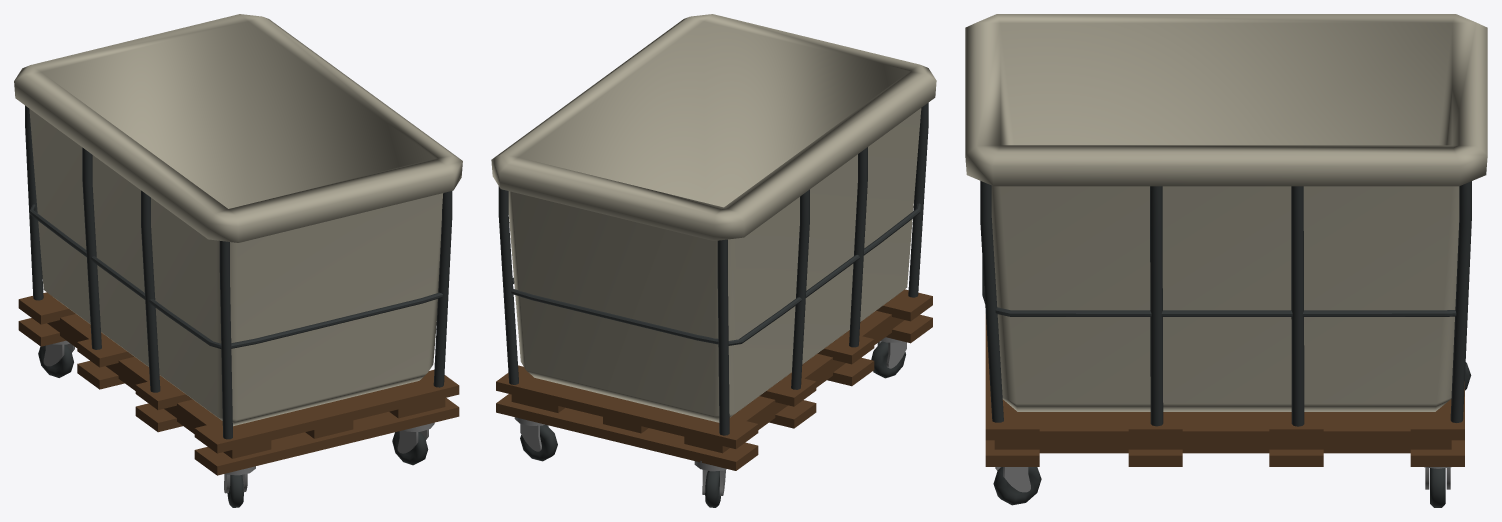
The model's file is laundry cart.fbx.
The picture shows the model from 3 angles, left to right: view 1: azimuth 30°, elevation 25°; view 2: azimuth 150°, elevation 25°; view 3: azimuth 270°, elevation 25°; orthographic projection. The views are drawn at different scales.
Visible parts, largest first — view 1: polySurface10; view 2: polySurface10; view 3: polySurface10.
Boxes of the visible parts, x1,y1,x2,y2 form: polySurface10: (14,14,462,507); polySurface10: (491,14,936,507); polySurface10: (965,14,1487,507).
Bounding box in the file's own units: 88.94 × 102 × 131.
